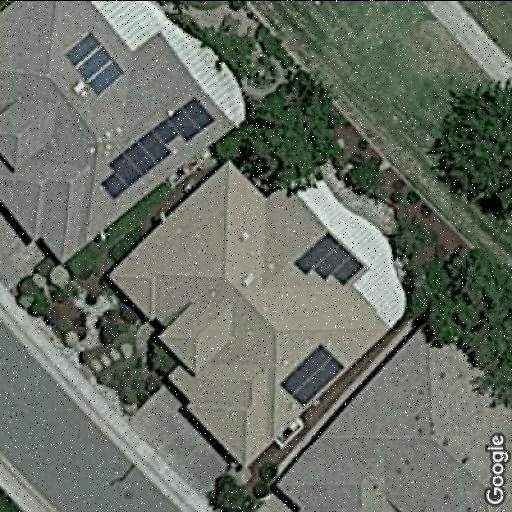solar-panel: (99, 96, 215, 198), (277, 341, 345, 409), (58, 29, 124, 93), (294, 232, 362, 284)
